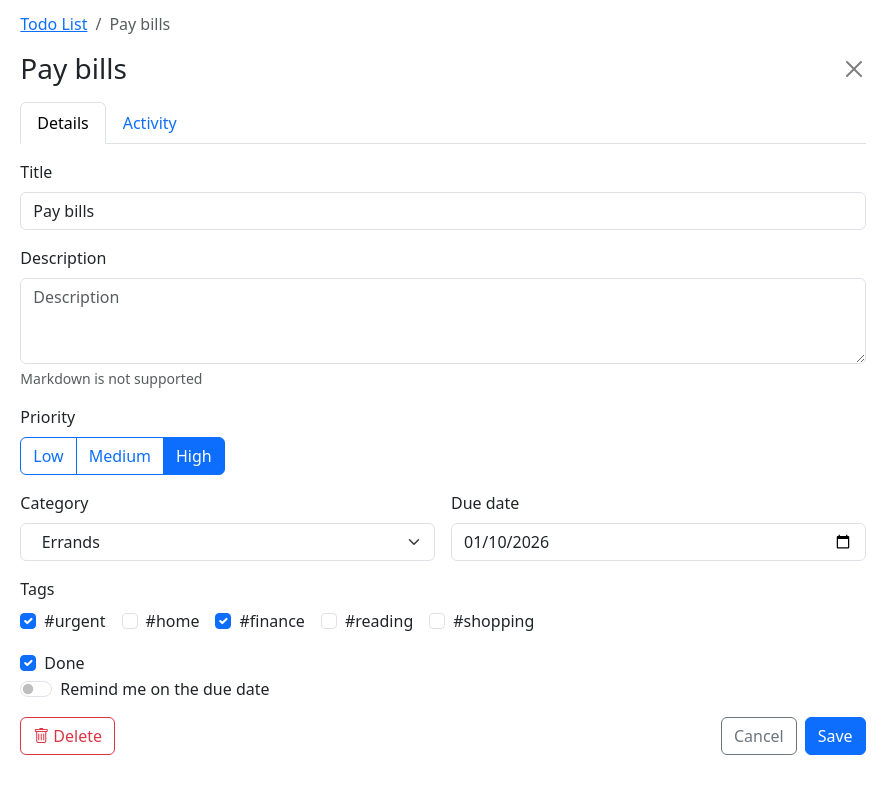
with Todo › should show a validation error for an empty title
Clear the field labelled "Title" at (443, 211), box [20,192,866,230]
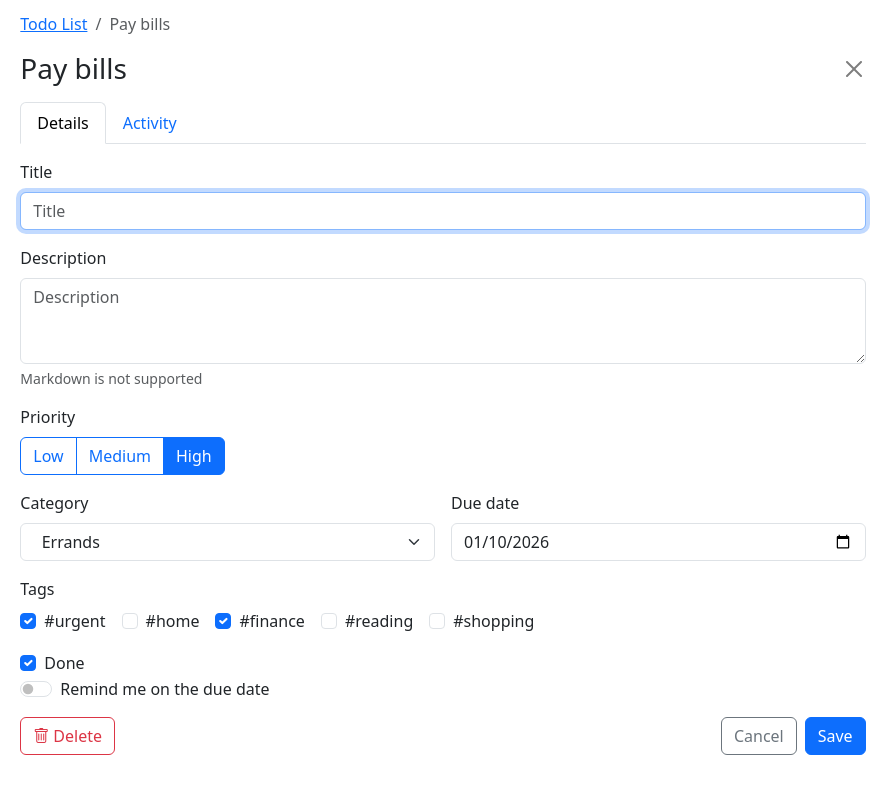
Leave the field labelled "Title", box [20,192,866,230]
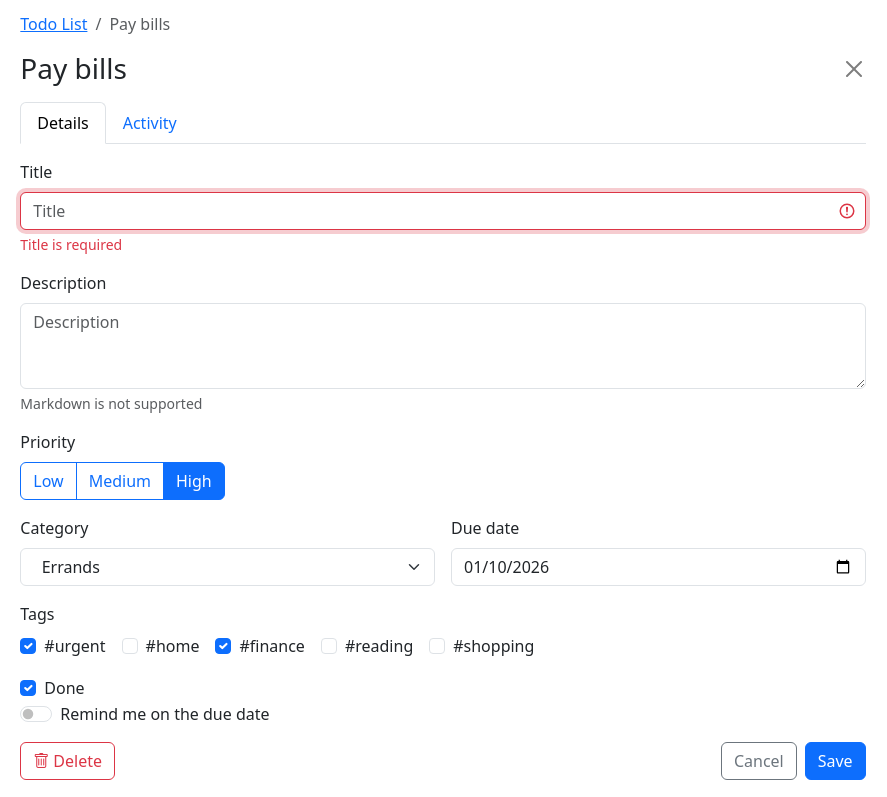
Expected: the text "Title is required" is shown, [20,235,122,254]
